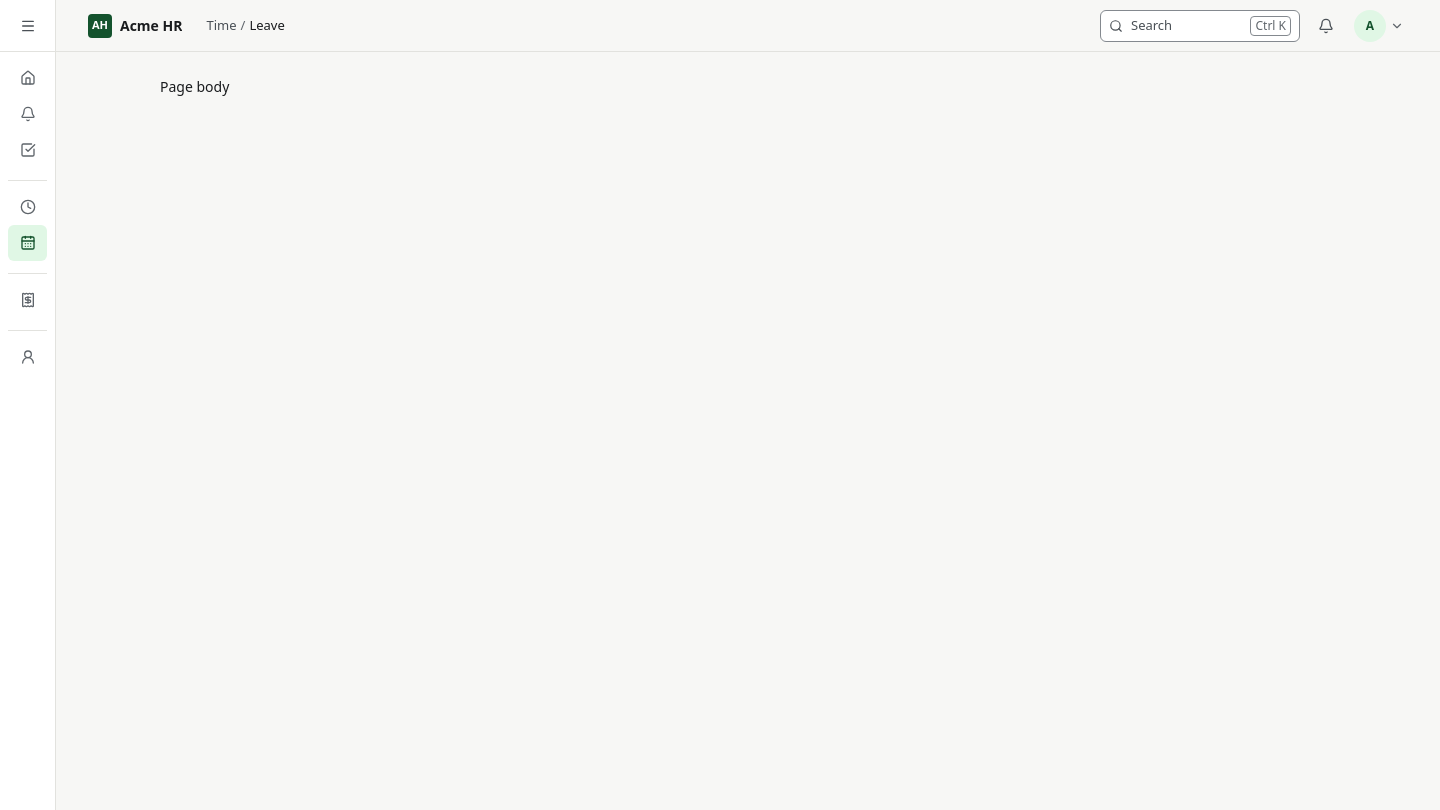
Test: on a desktop › the search box opens the command palette
Click the button "Search Ctrl K": (1200, 26) x1=1100 y1=10 x2=1300 y2=42
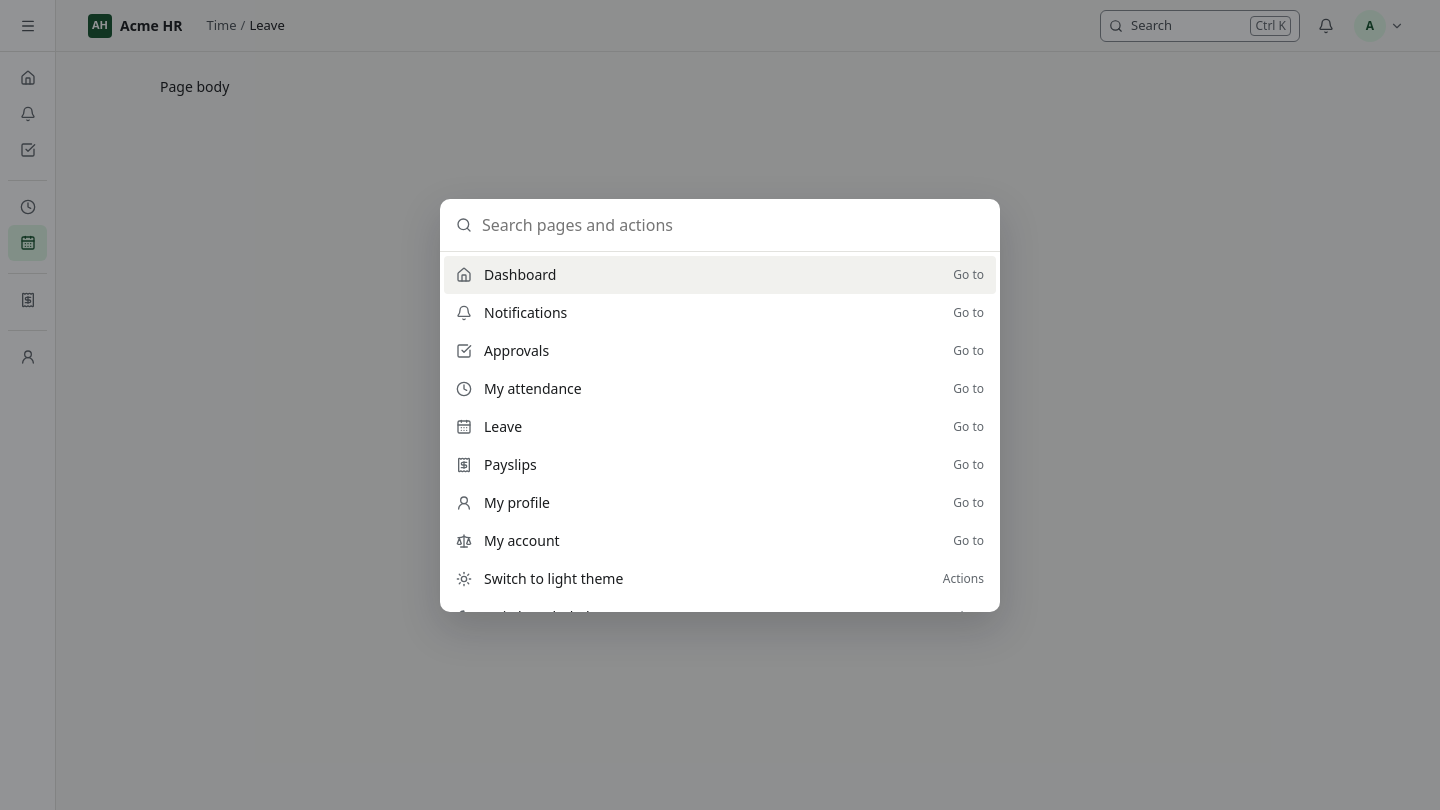
Result: the dropdown labelled "Search pages and actions" is shown at x1=480 y1=210 x2=984 y2=238
